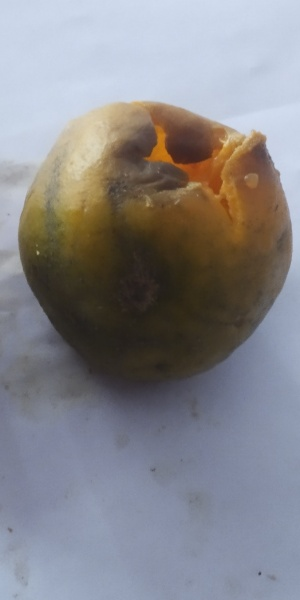BAD: (17, 104, 296, 389)
